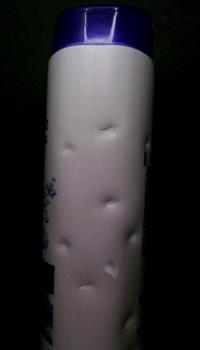dent_unacceptable: (87, 112, 130, 148), (50, 236, 89, 263), (99, 255, 125, 284), (72, 279, 107, 299), (122, 220, 147, 246), (96, 191, 124, 214), (116, 306, 138, 332), (59, 133, 84, 155)
